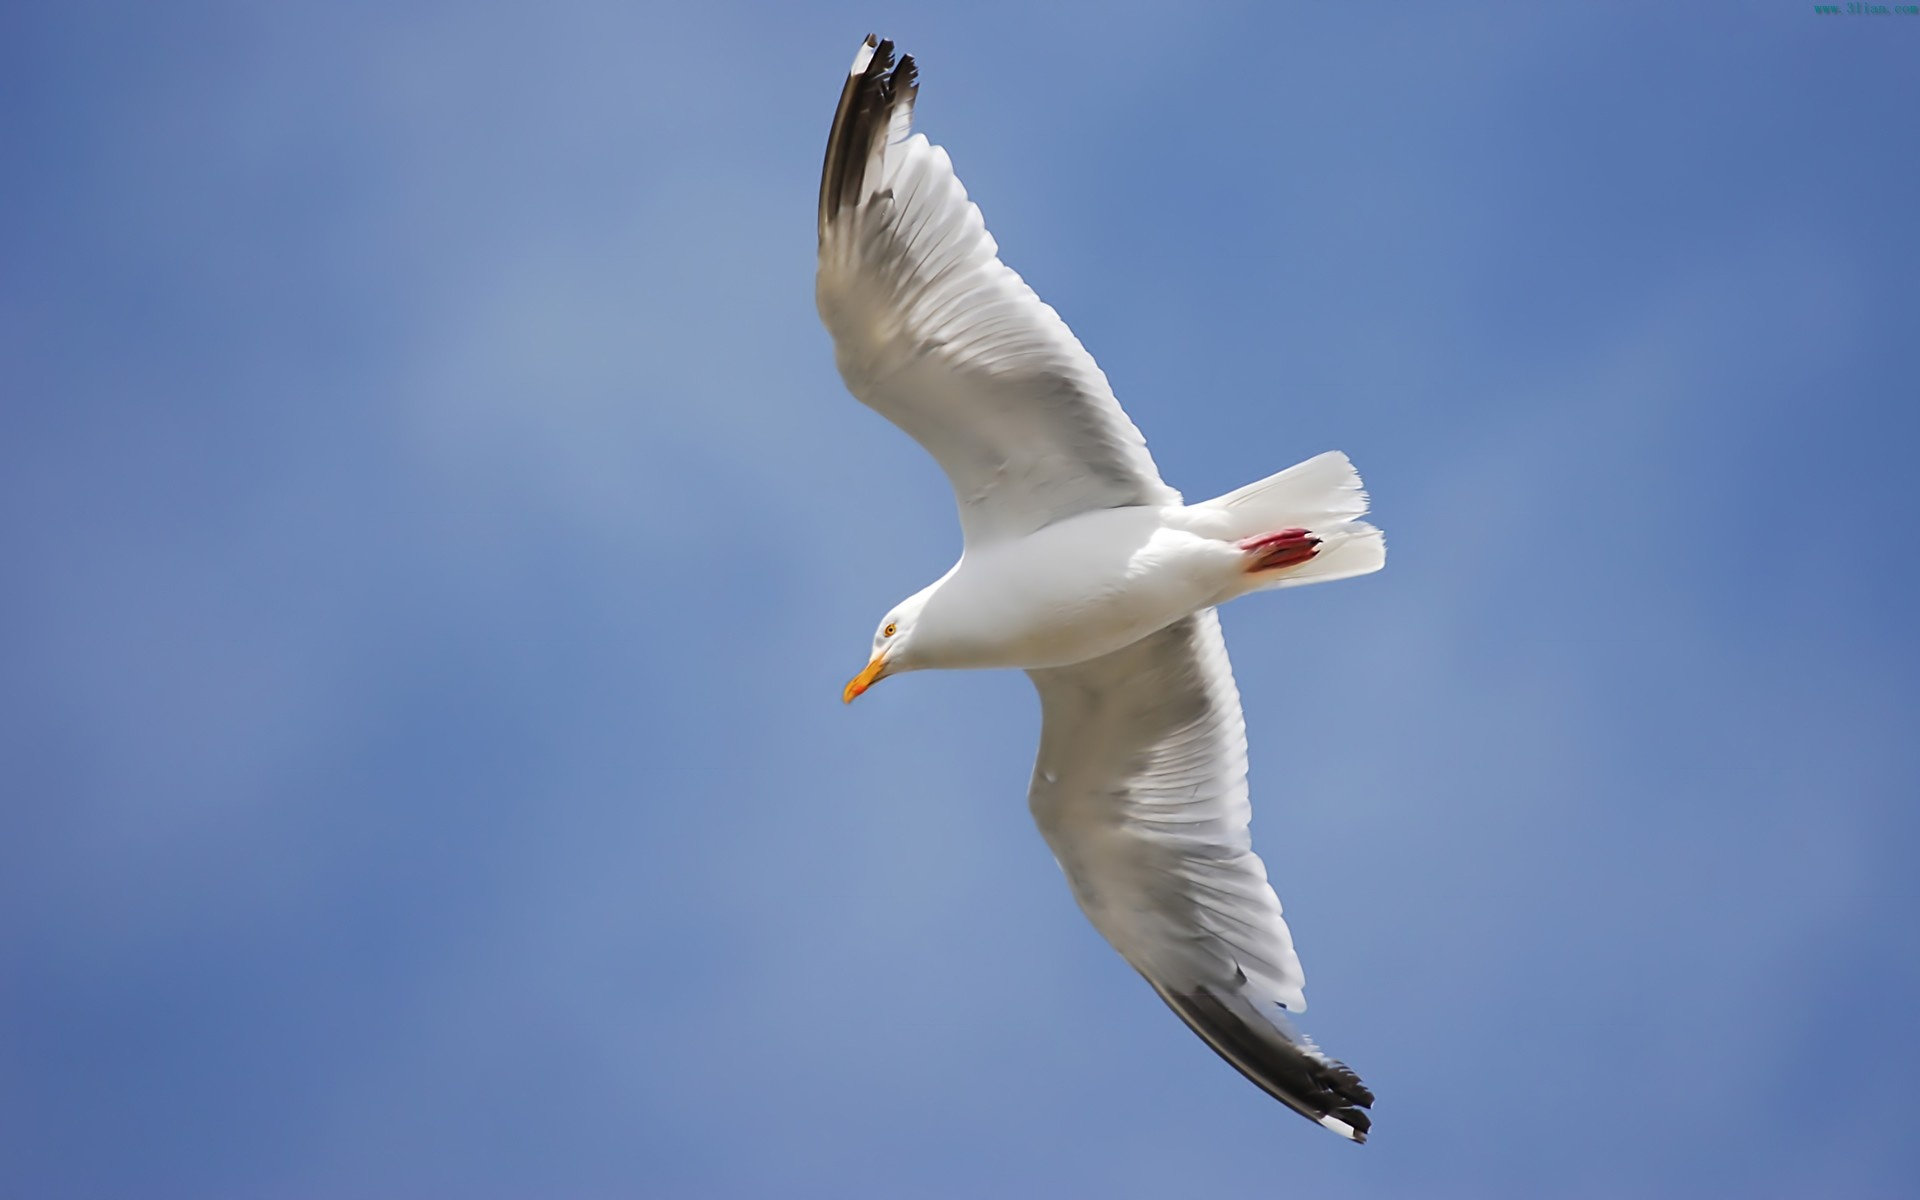bird: (789, 32, 1403, 1163)
